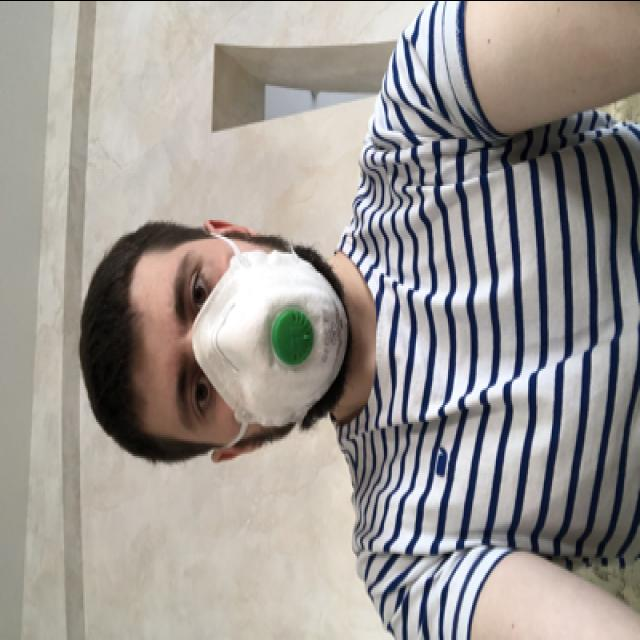with_mask: (147, 236, 349, 436)
